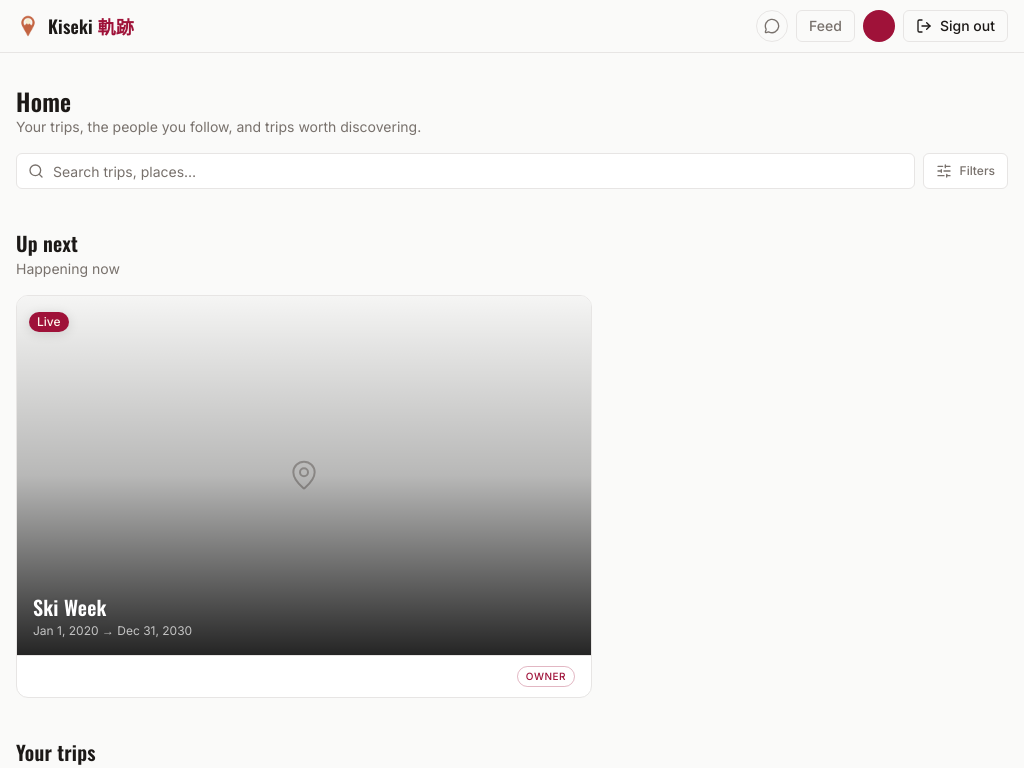
Test: search and the Filters door › hides every facet behind the door, and shows none of them by default
Check: the number of search fields is 1, box x1=16 y1=153 x2=915 y2=189
Click the button "Filters". click: (965,171)
box: x1=923 y1=153 x2=1008 y2=189
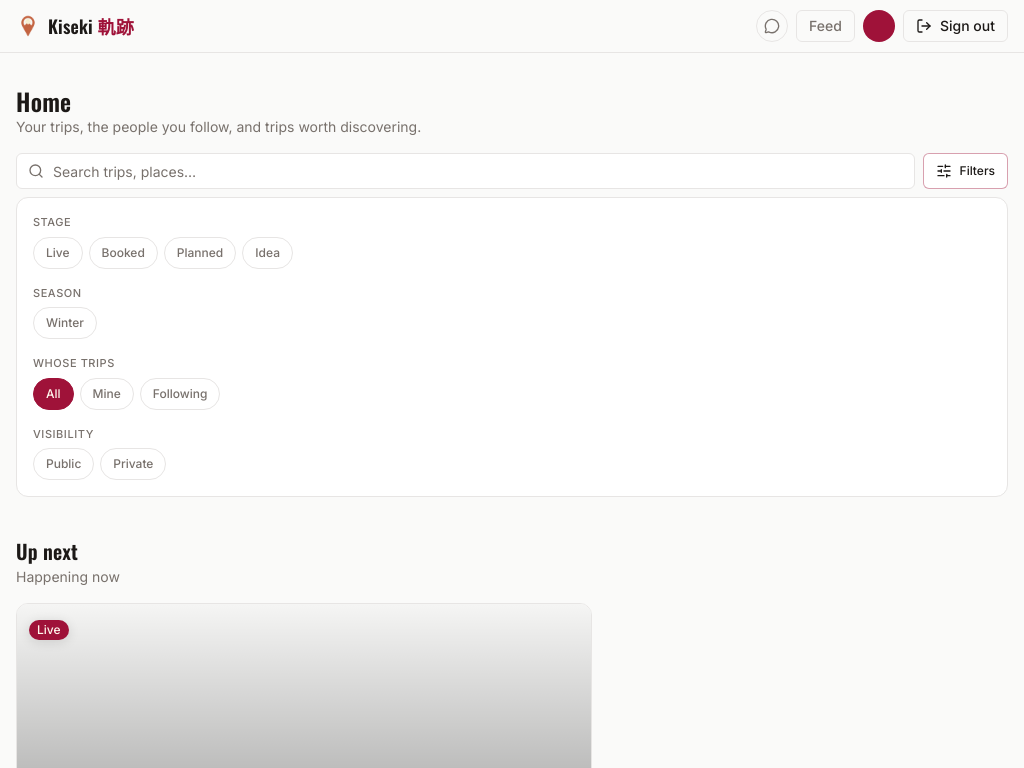
Check: the button "Filters" is expanded, box x1=923 y1=153 x2=1008 y2=189
Check: the element that starts with "Stage" is shown, box x1=16 y1=197 x2=1008 y2=497
